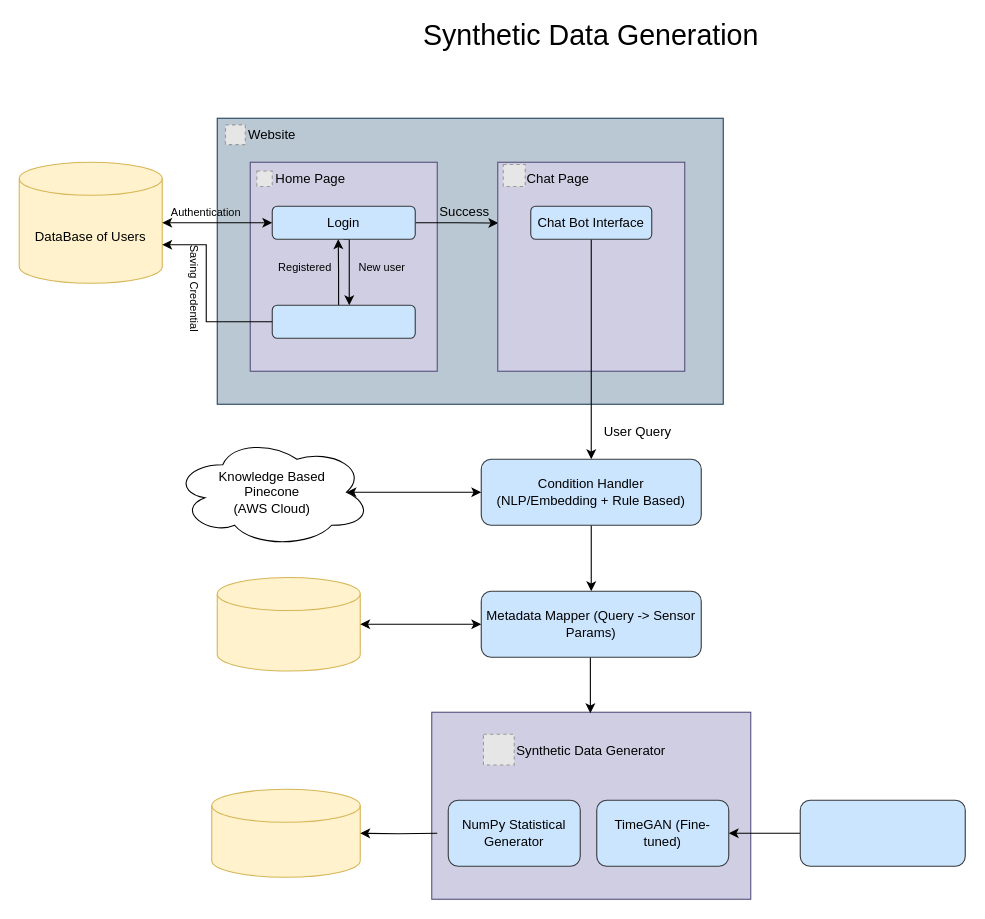
Image size: 985x919. Some labels were removed from this diagram. Grey dashed boxes stand in for pictures. The shapes that lost their labels are listed below. From the top down, each one's box as (x1, y1, x2, y2) in pixels, then its label:
(271, 304, 415, 338): Sign up
(216, 576, 360, 671): Data Storage (Real Sensor Logs)
(211, 788, 360, 877): Data Storage (Generated Datasets)
(799, 799, 965, 866): Statistical and Probability Models to fine tune
